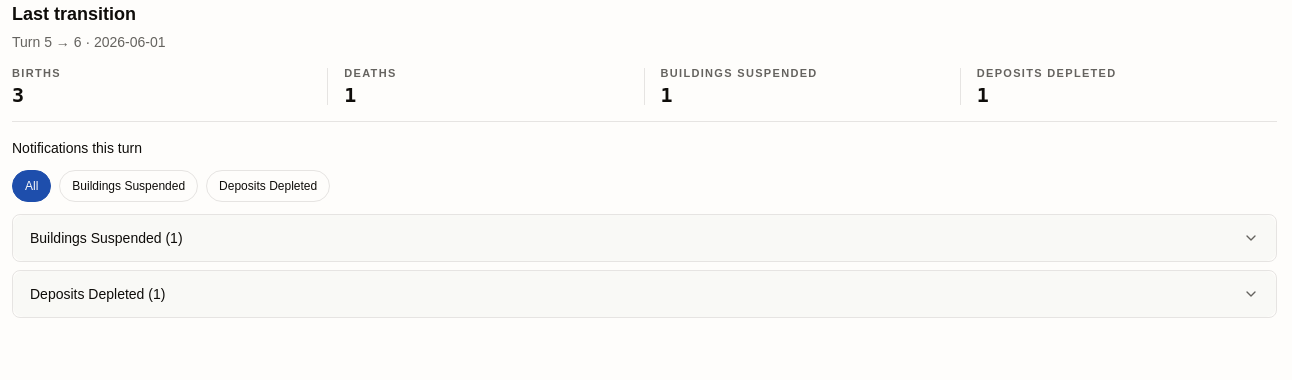
TurnTransitionOutcomeContent › expands group to show notifications when accordion is opened
Click the button "Buildings Suspended (1)" at (96,238), box 13,215 -> 1276,261
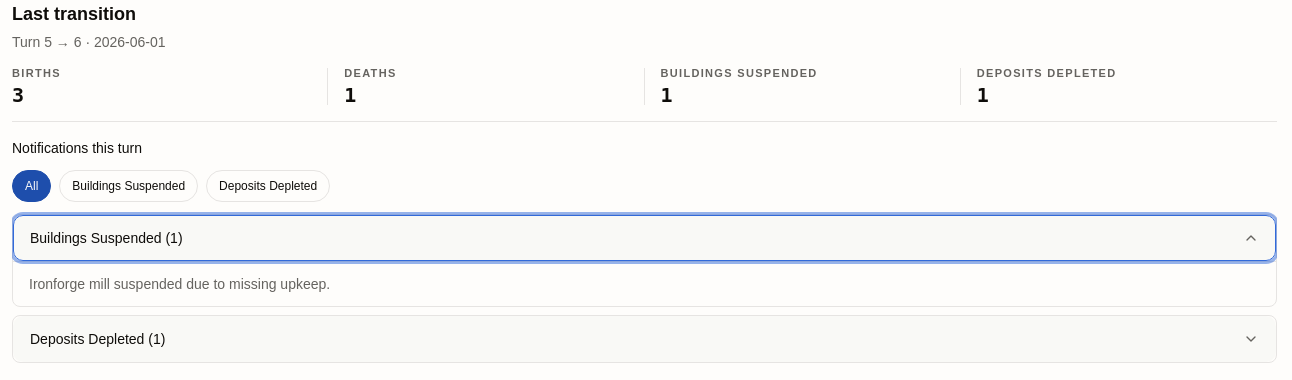
Now the list item "Ironforge mill suspended due to missing upkeep." is shown, box 29,276 -> 330,292
